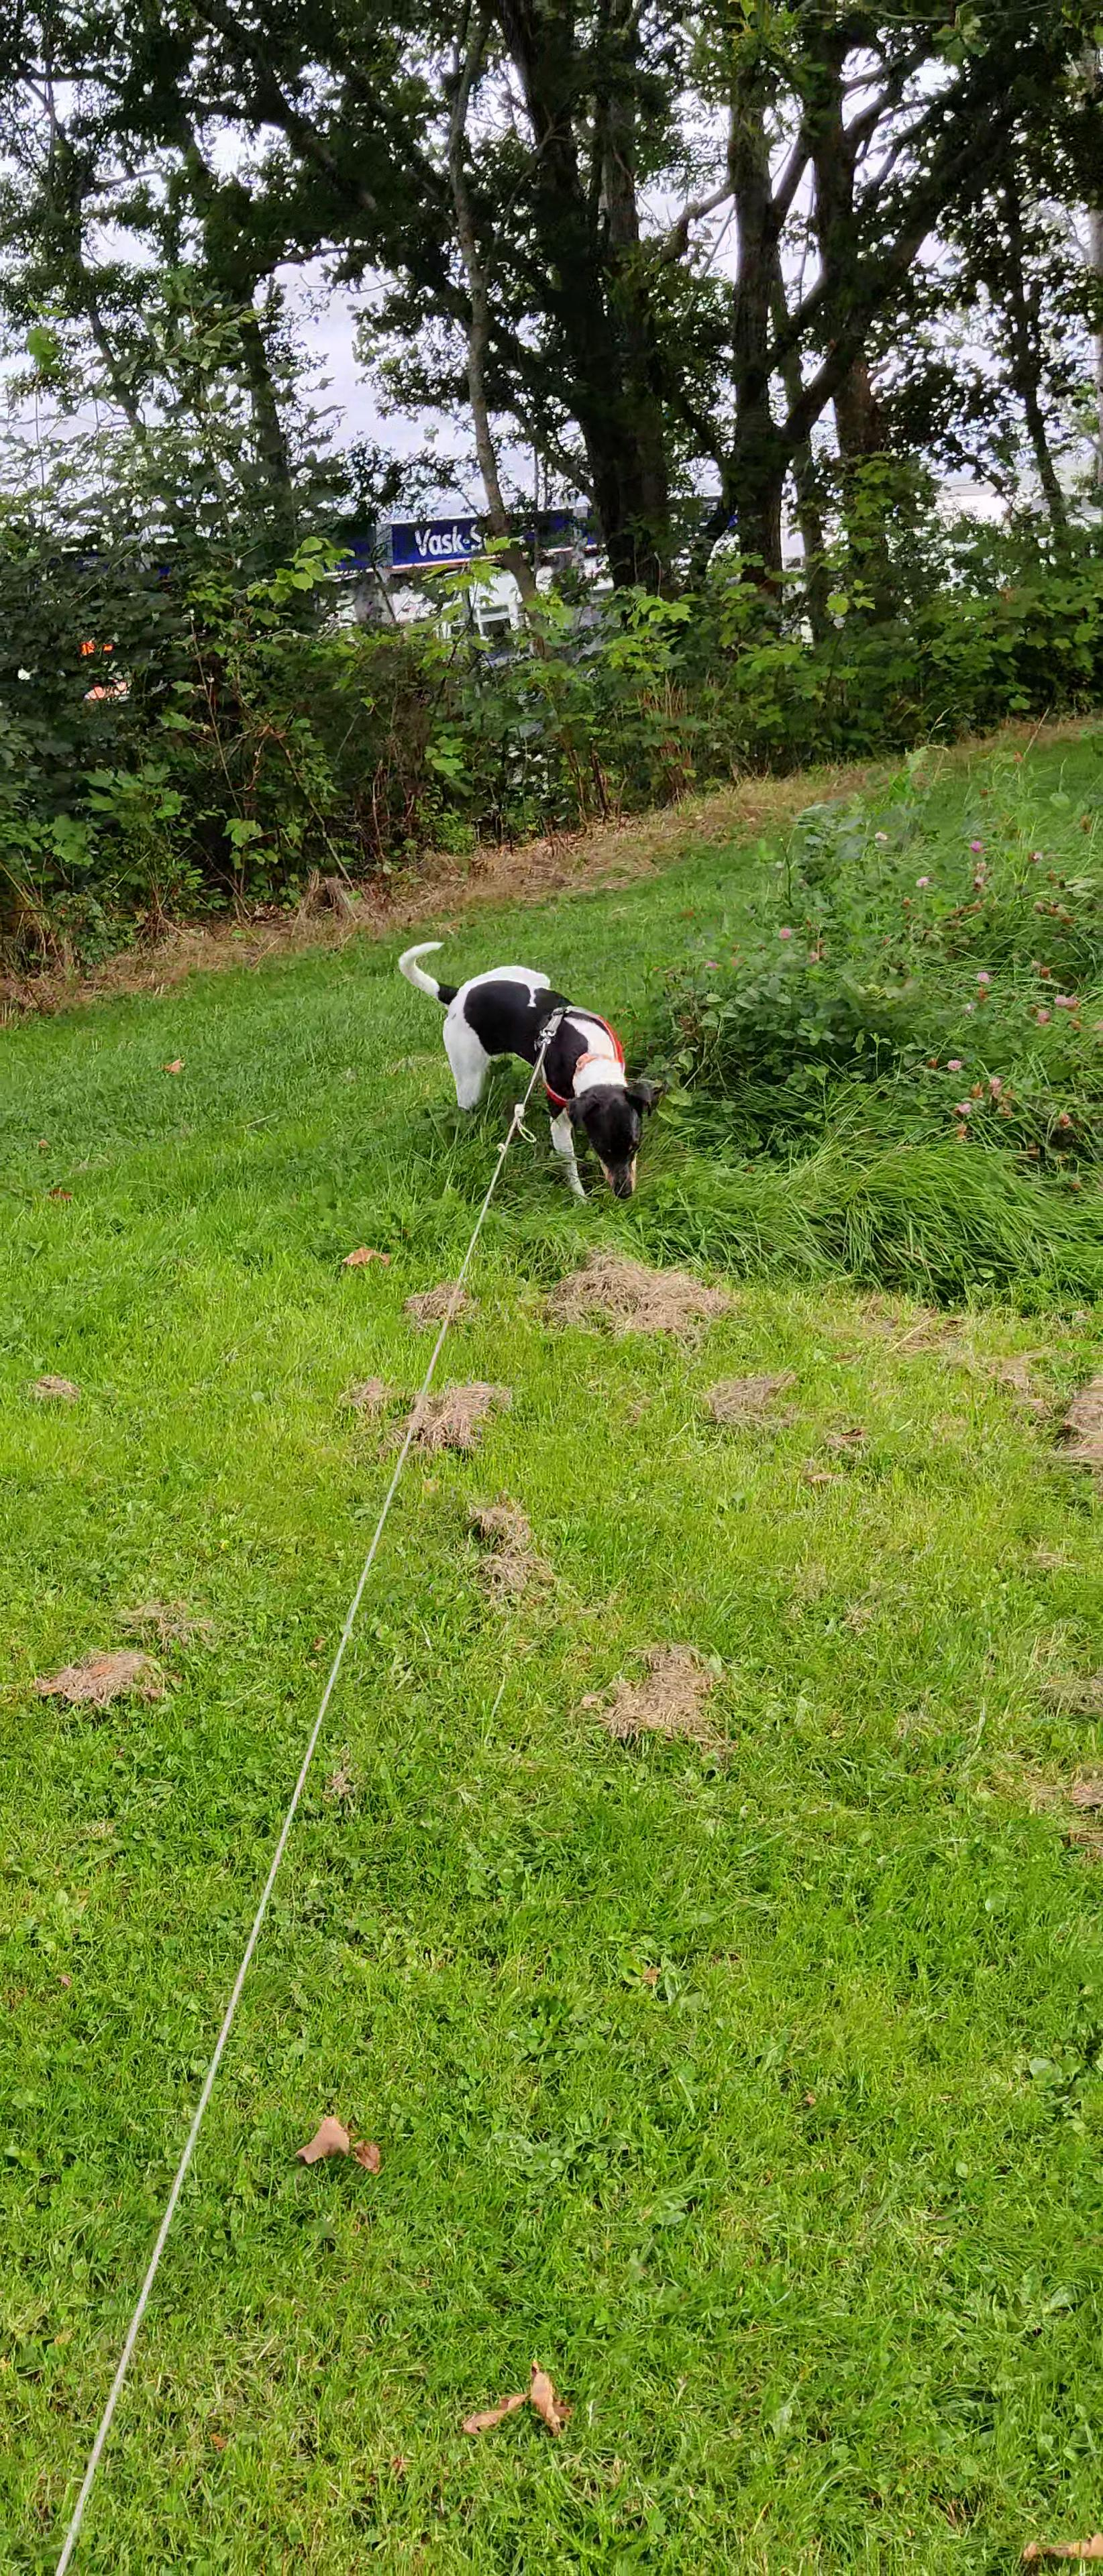Dog: (383, 931, 671, 1204)
